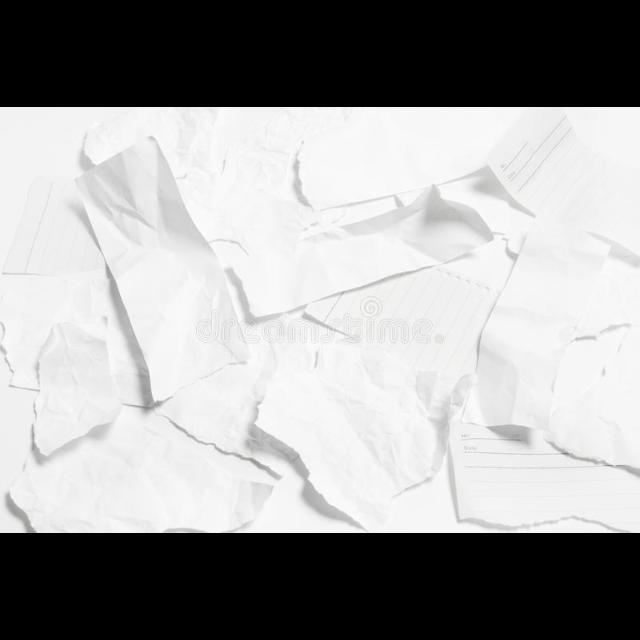scrap_paper: (73, 138, 250, 405), (255, 342, 470, 533), (473, 220, 639, 436), (245, 188, 499, 315), (294, 111, 462, 230), (486, 107, 622, 228), (30, 322, 120, 460)
